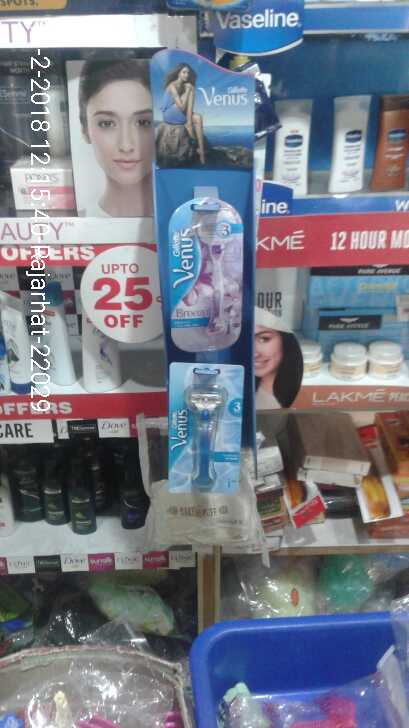venus: (163, 194, 248, 352), (161, 356, 252, 502)
